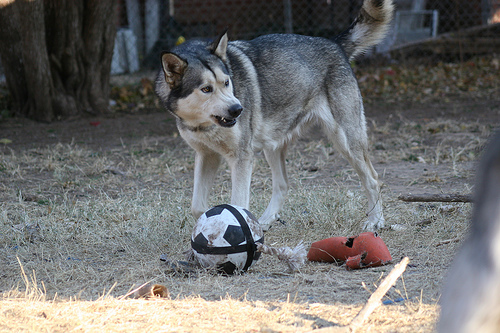dog: (150, 0, 395, 234)
